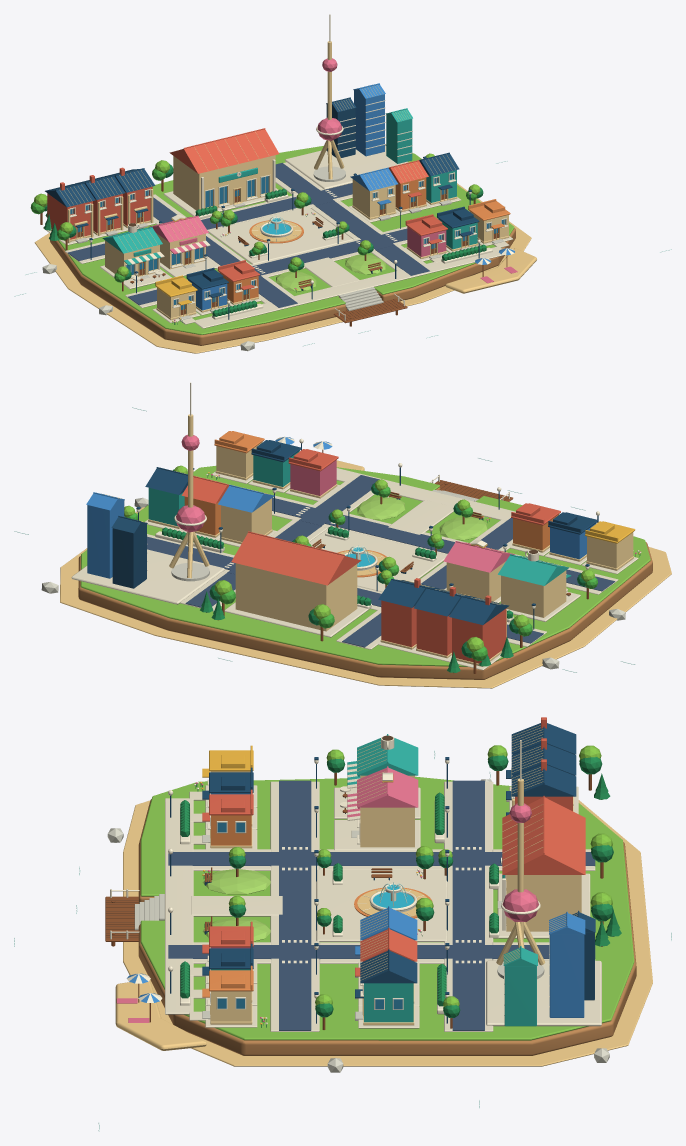
Rendered from city-v4.glb.
3 renders of one model, top to bottom at view 1: azimuth 30°, elevation 25°; view 2: azimuth 150°, elevation 25°; view 3: azimuth 270°, elevation 25°, orthographic. The views are drawn at different scales.
Visible parts, largest first — view 1: Shanghai city v4; view 2: Shanghai city v4; view 3: Shanghai city v4.
Boxes of the visible parts, x1,y1,x2,y2 form: Shanghai city v4: (14,14,671,353); Shanghai city v4: (14,382,671,688); Shanghai city v4: (14,717,671,1131).
Size of the model in its own units: 77.86 by 24.69 by 56.84.
